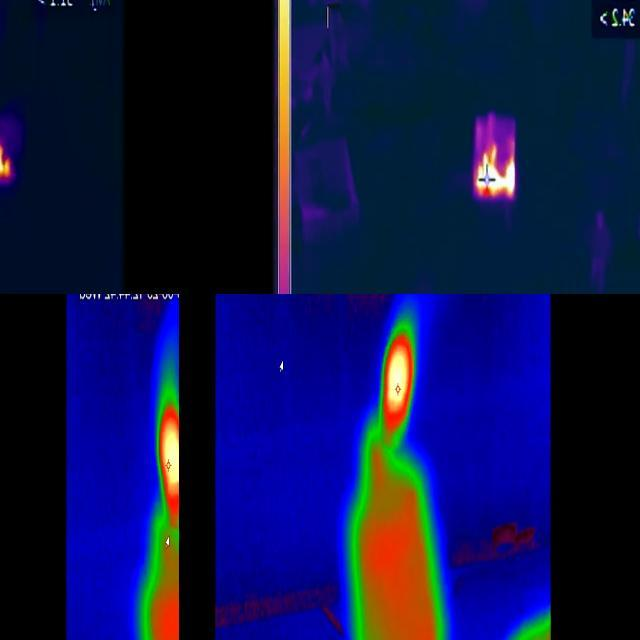fire: (381, 315, 415, 443), (472, 105, 515, 199), (157, 382, 180, 518), (1, 139, 14, 183)
